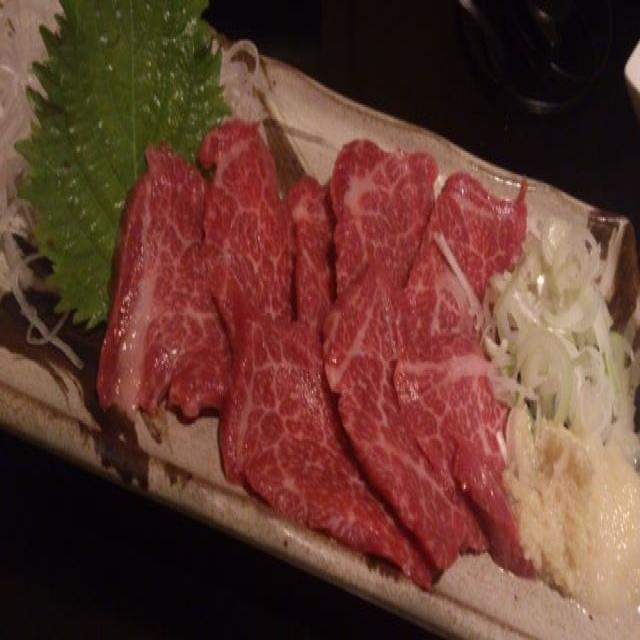刺身生食: (18, 11, 628, 608)
